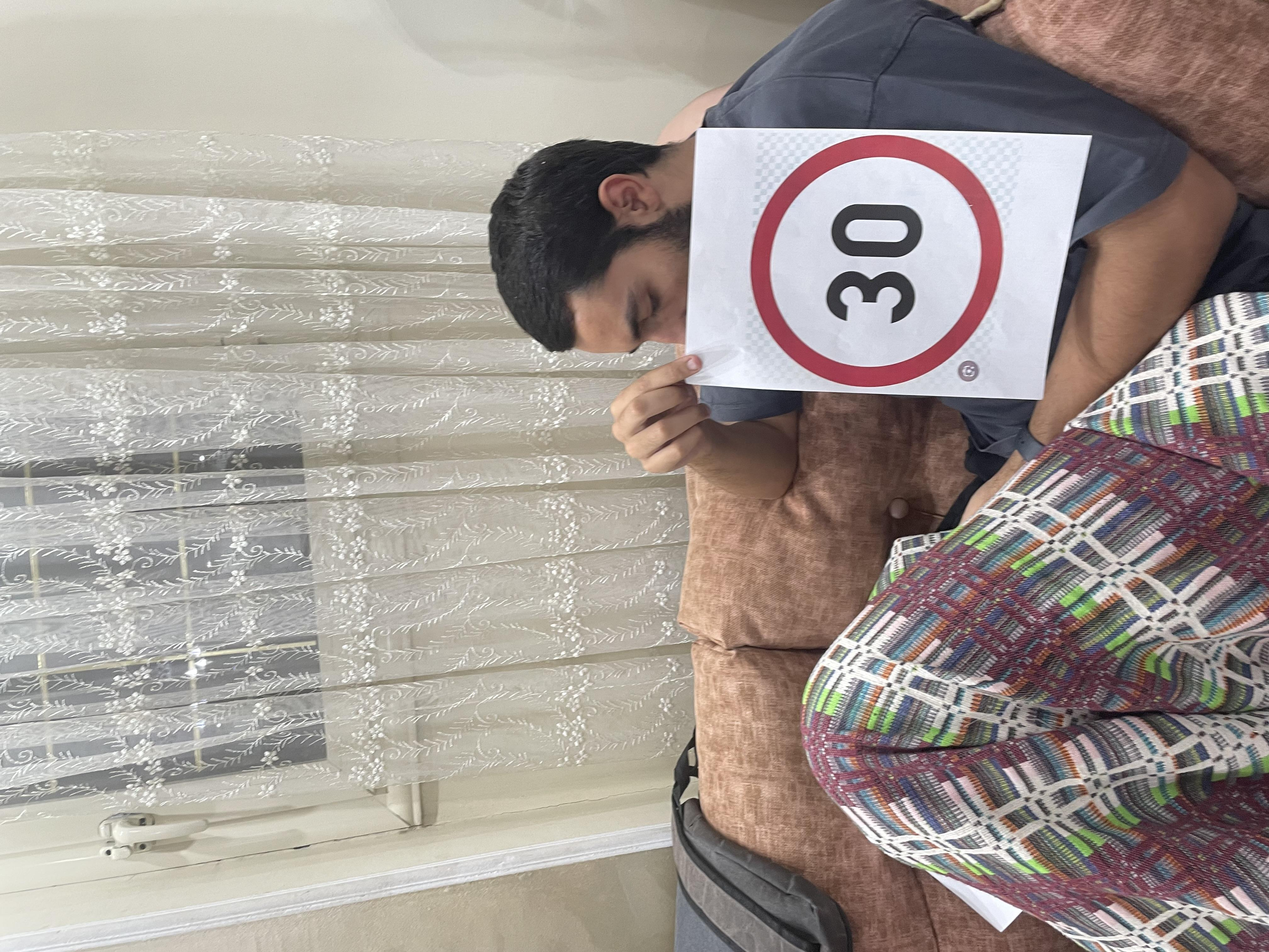30-speed: (748, 551, 1103, 755)
